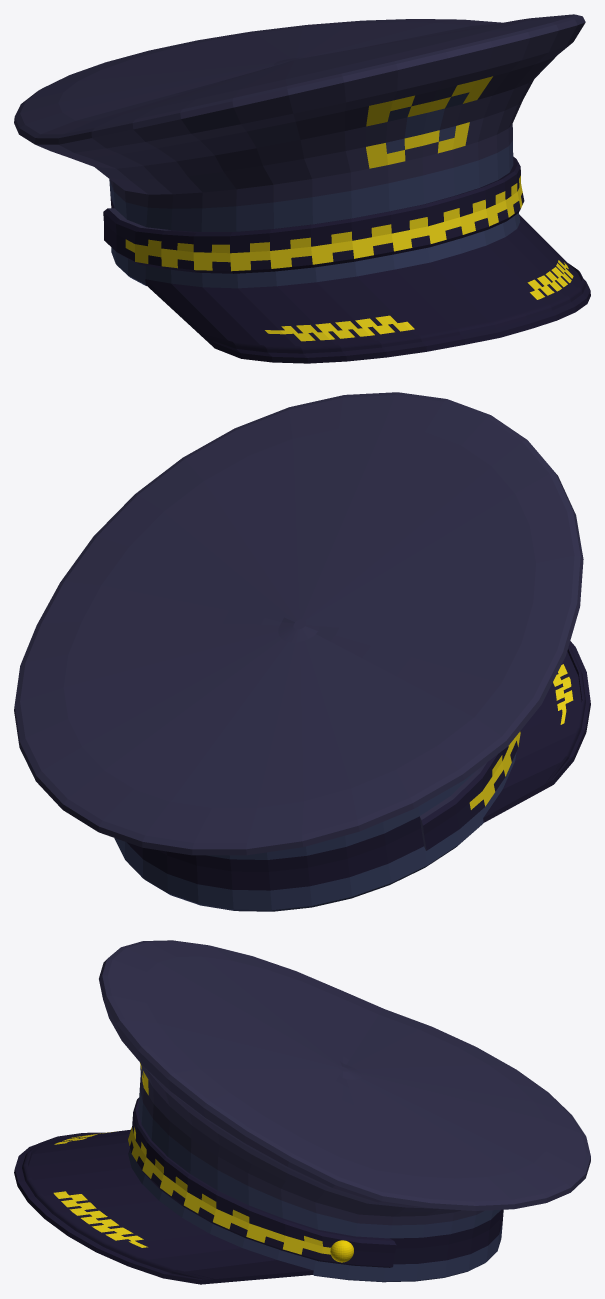
File: hat.fbx
3 views of the same model, one above another, from view 1: azimuth 30°, elevation 25°; view 2: azimuth 150°, elevation 25°; view 3: azimuth 270°, elevation 25° (orthographic). The views are drawn at different scales.
Visible parts, largest first — view 1: Sphere; view 2: Sphere; view 3: Sphere.
Boxes of the visible parts, bbox=[...] form: Sphere: bbox=[14, 14, 590, 363]; Sphere: bbox=[14, 392, 590, 911]; Sphere: bbox=[14, 940, 590, 1284].
Bounding box in the file's own units: 71.5 × 46.29 × 91.44.
